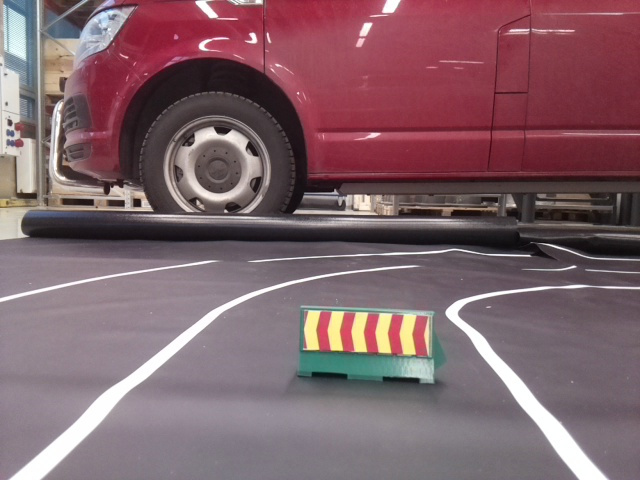ClosedRoadStand: (304, 308, 433, 382)
